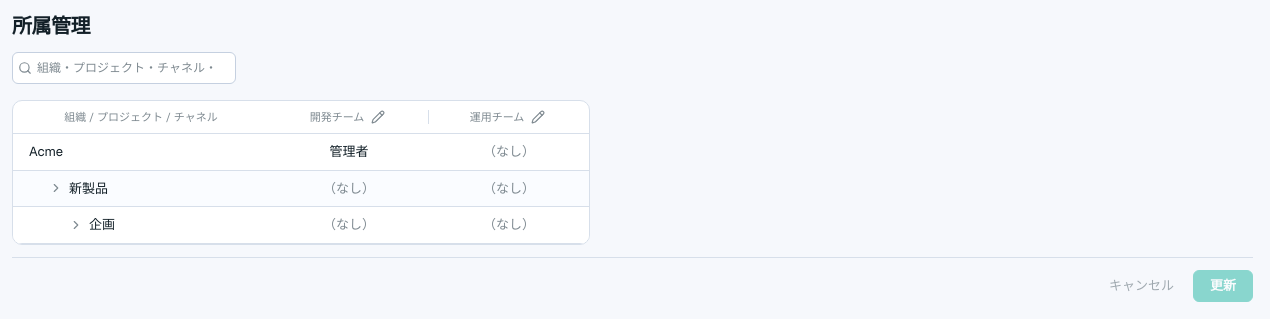
Scenario: MembershipsAdminScreen › 各グループのヘッダに編集アイコンがあり、クリックで編集モードへ入る（対象グループの列のみ表示）
Click the button named "管理グループ 開発チーム を編集" at {"x": 378, "y": 117}, box [368, 107, 388, 127]
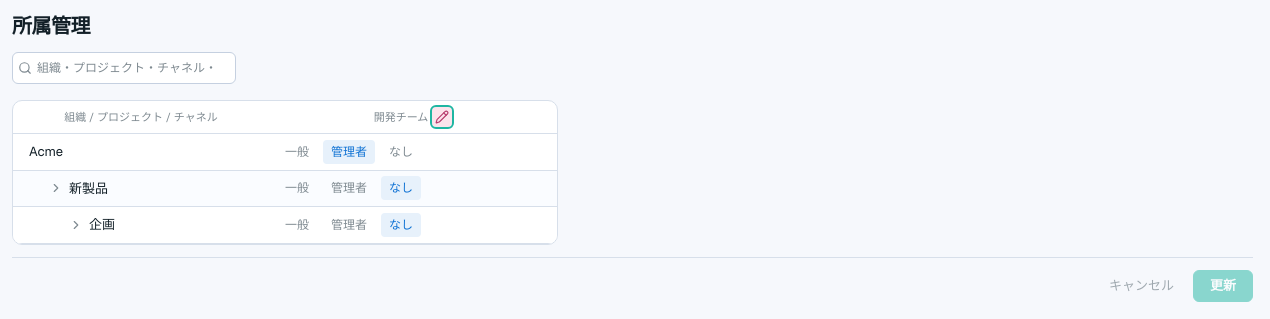
Expected: the column heading "開発チーム" is shown, [269, 101, 557, 134]
Expected: the text "運用チーム" is gone
Expected: the element named "Acme × 管理グループ 開発チーム の所属ロール" is shown, [277, 140, 421, 164]
